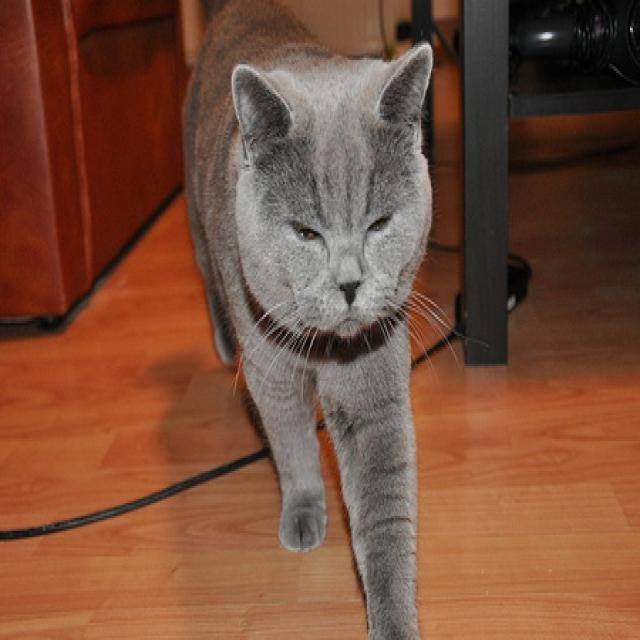British Shorthair: (178, 0, 436, 640)
